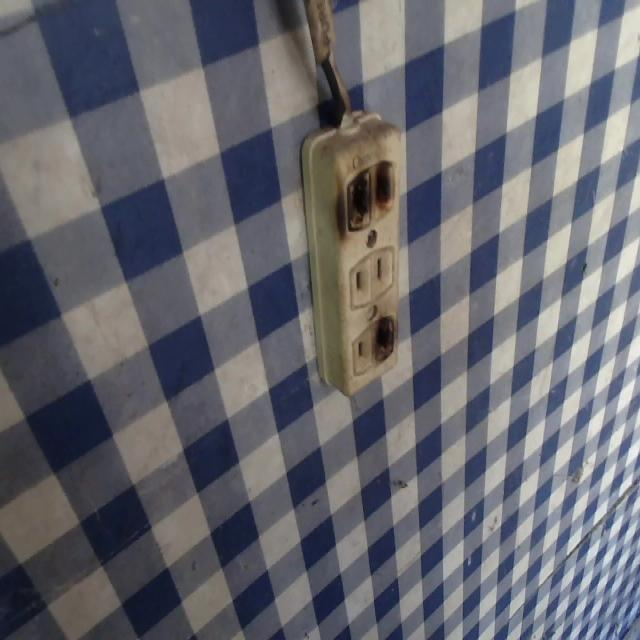-: (337, 154, 395, 227), (369, 311, 395, 365)
